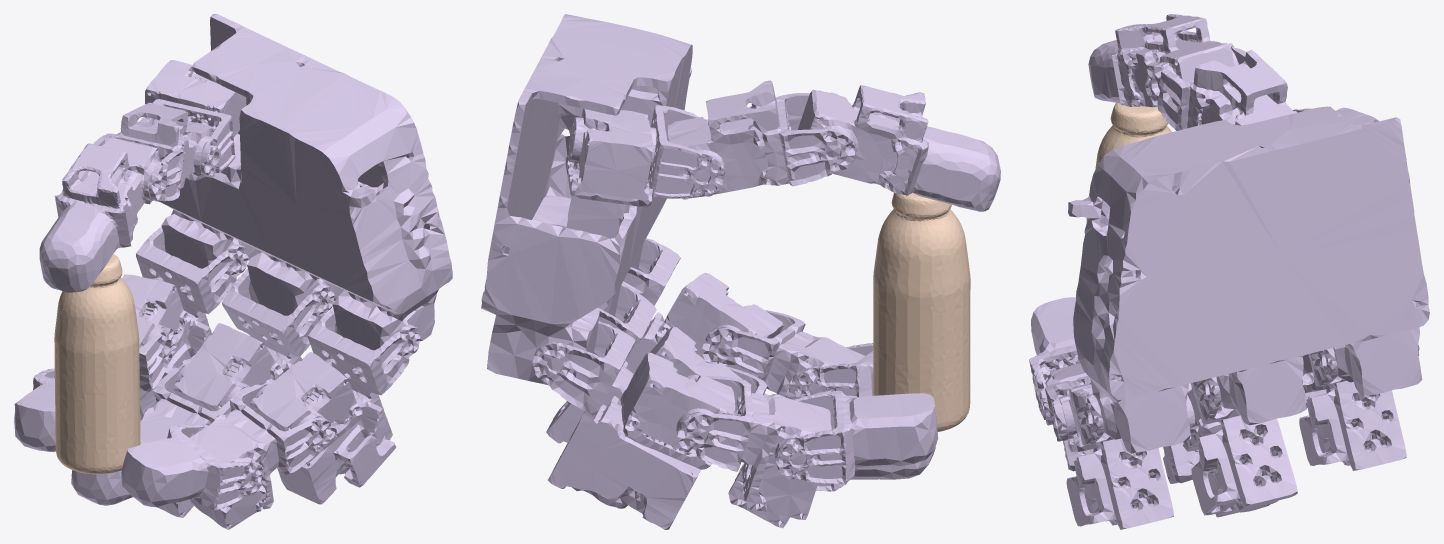
The model's file is e93c8561fbaef9-final.glb.
3 renders of one model, left to right at view 1: azimuth 30°, elevation 25°; view 2: azimuth 150°, elevation 25°; view 3: azimuth 270°, elevation 25°, orthographic. The views are drawn at different scales.
Parts seen in each view (by area): view 1: LEAP_hand, world; view 2: LEAP_hand, world; view 3: LEAP_hand, world.
Part boxes in pixels (x1=…): LEAP_hand: x1=14, y1=14, x2=452, y2=529; world: x1=54, y1=254, x2=140, y2=474; LEAP_hand: x1=481, y1=14, x2=1000, y2=529; world: x1=873, y1=193, x2=970, y2=431; LEAP_hand: x1=1029, y1=14, x2=1429, y2=529; world: x1=1095, y1=102, x2=1171, y2=169.
Size of the model in its own units: 0.1874 by 0.1758 by 0.1457.
